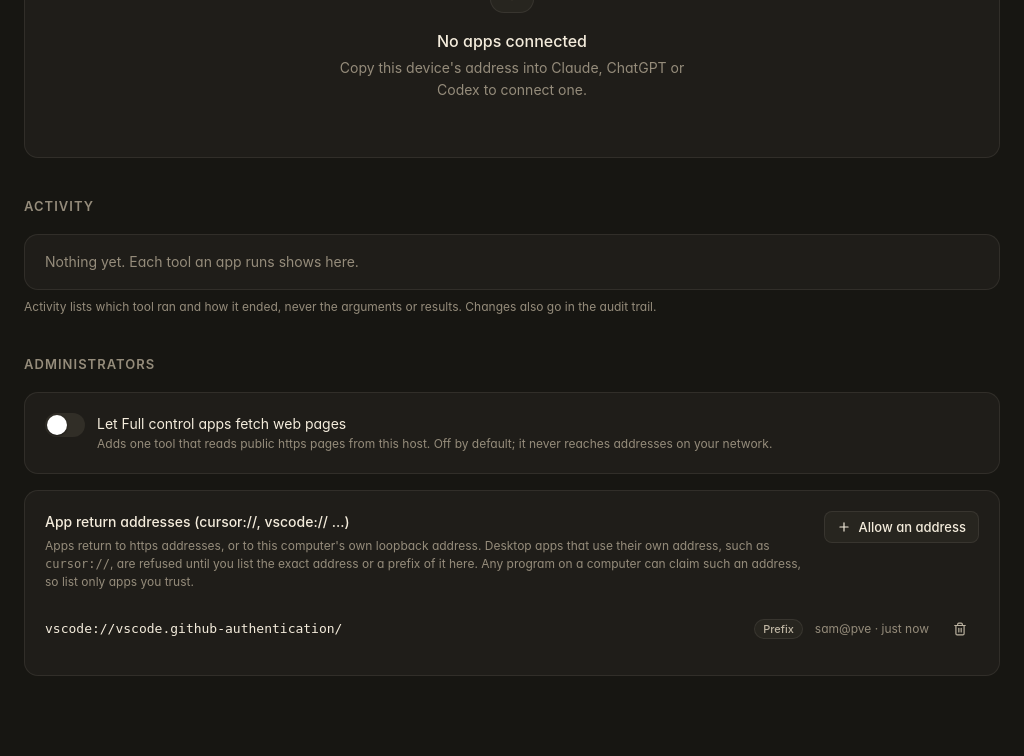
Test: app return addresses (administrators) › removes an address without a phrase
(page scrolled)
Click the button named "Stop allowing vscode://vscode.github-authentication/".
click(960, 629)  # box [941,613,979,645]
(page scrolled)
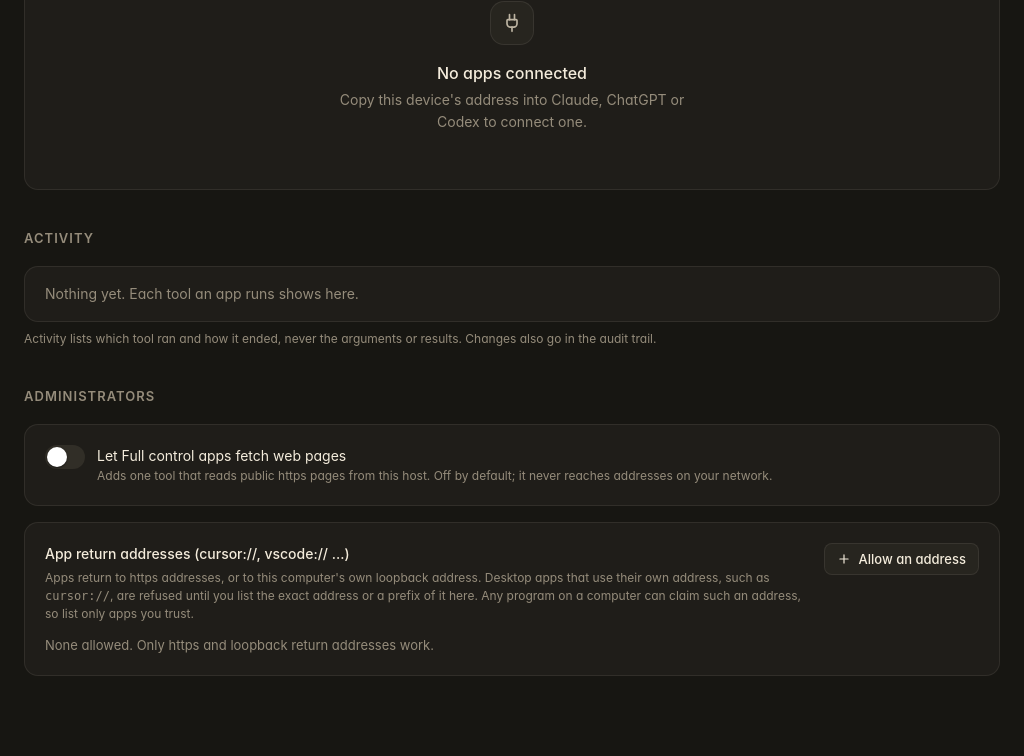
Expected: the text "None allowed. Only https and loopback return addresses work." is shown, [45,637,434,653]
